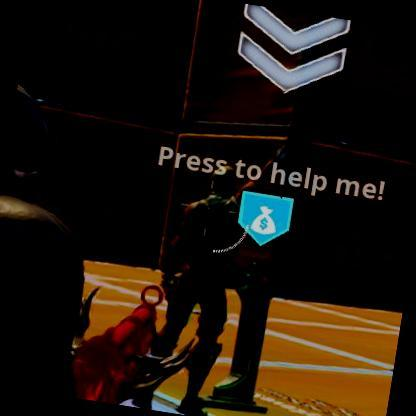person: (138, 169, 258, 416)
